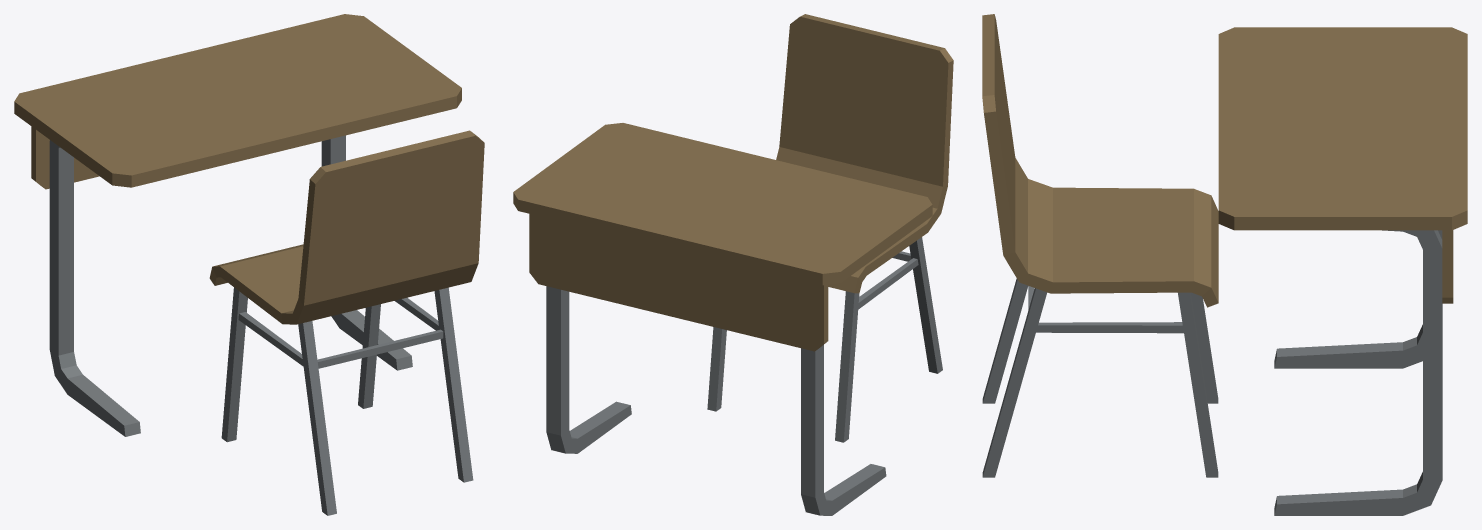
File: SM_Props_Interior_Generic_School_DeskSet.fbx
3 views of the same model, side by side, from view 1: azimuth 30°, elevation 25°; view 2: azimuth 150°, elevation 25°; view 3: azimuth 270°, elevation 25° (orthographic). The views are drawn at different scales.
Parts seen in each view (by area): view 1: SM_Props_Interior_Generic_School_DeskSet; view 2: SM_Props_Interior_Generic_School_DeskSet; view 3: SM_Props_Interior_Generic_School_DeskSet.
Boxes of the visible parts, x1,y1,x2,y2 form: SM_Props_Interior_Generic_School_DeskSet: (14,14,484,515); SM_Props_Interior_Generic_School_DeskSet: (513,14,953,515); SM_Props_Interior_Generic_School_DeskSet: (982,14,1467,515).
Bounding box in the file's own units: 90.02 × 85 × 97.48.
